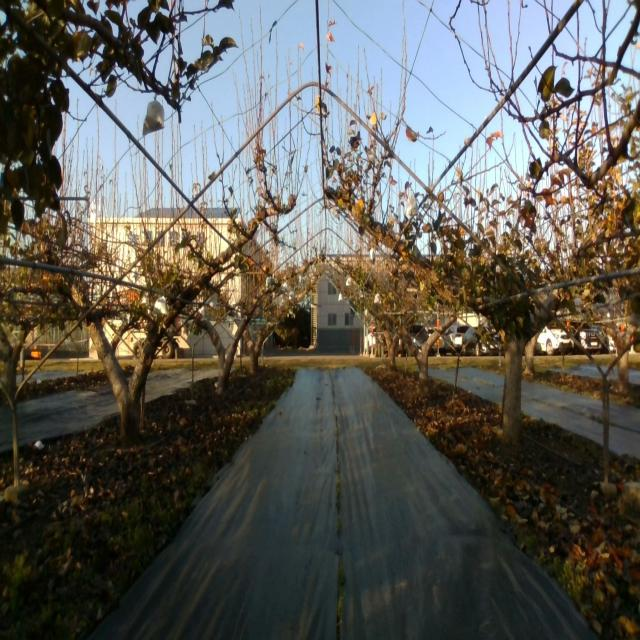pearbags: (142, 100, 166, 136), (405, 196, 419, 219), (154, 294, 168, 316)
